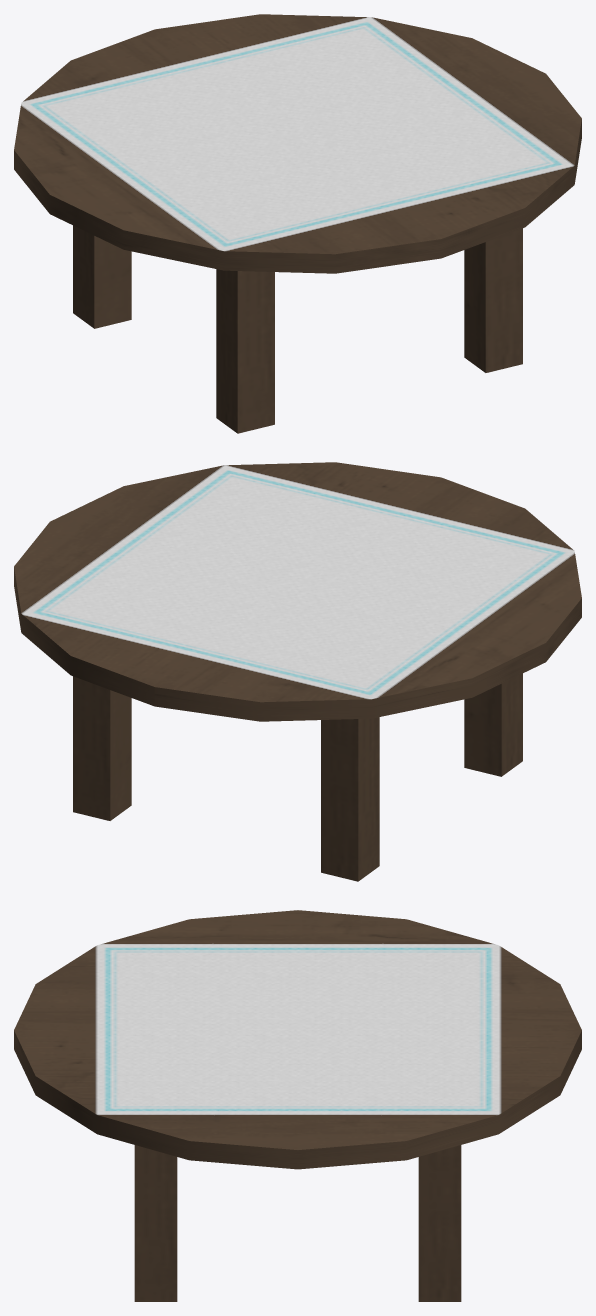
The model's file is table.fbx.
3 renders of one model, top to bottom at view 1: azimuth 30°, elevation 25°; view 2: azimuth 150°, elevation 25°; view 3: azimuth 270°, elevation 25°, orthographic.
Visible parts, largest first — view 1: table; view 2: table; view 3: table.
Boxes of the visible parts, bbox=[...] form: table: bbox=[14, 14, 581, 433]; table: bbox=[14, 462, 581, 881]; table: bbox=[14, 910, 581, 1301].
Size of the model in its own units: 2 by 0.7875 by 2.
